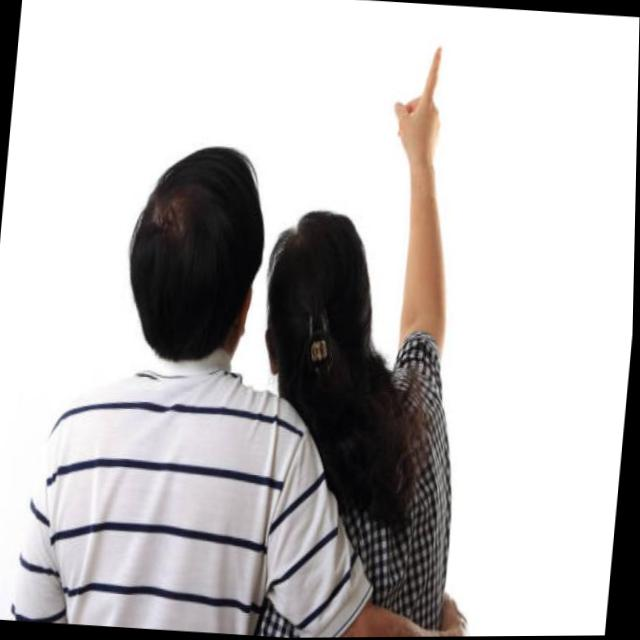no helmet: (123, 137, 269, 360), (263, 211, 386, 408)
